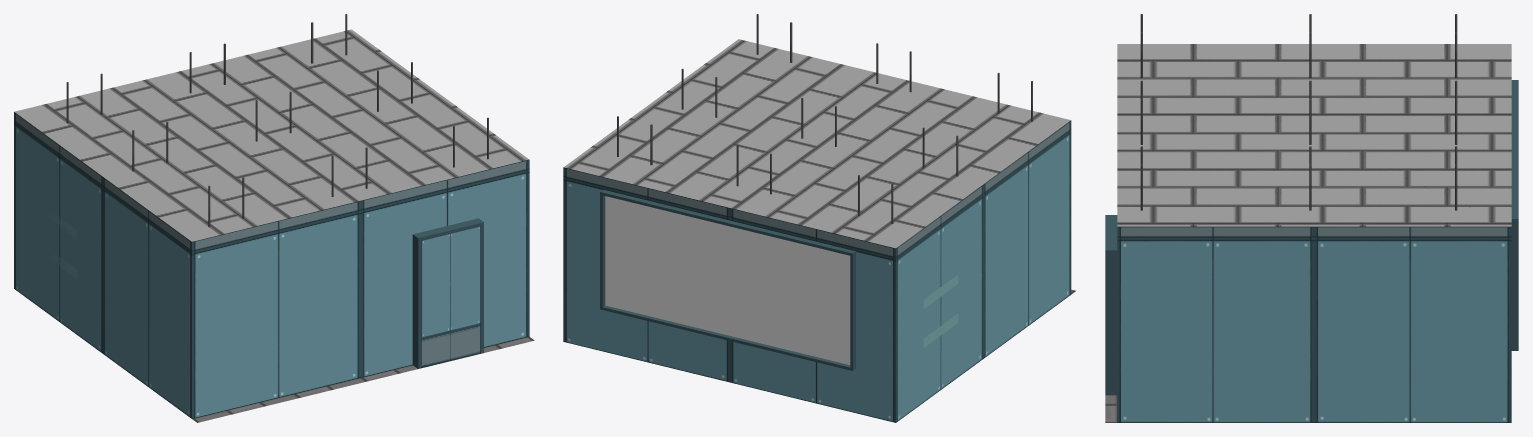
The model's file is Lab_PC_Room_.fbx.
3 views of the same model, side by side, from view 1: azimuth 30°, elevation 25°; view 2: azimuth 150°, elevation 25°; view 3: azimuth 270°, elevation 25° (orthographic). The views are drawn at different scales.
Parts seen in each view (by area): view 1: Wall, Ceiling, CeilingLightA1, Floor; view 2: Wall, Ceiling, Window, CeilingLightA1, WallShelve1; view 3: Wall, Ceiling, CeilingLightA1.
Part boxes in pixels (x1,y1,x2,y2): Wall: [14, 112, 529, 418]; Ceiling: [14, 29, 528, 241]; CeilingLightA1: [66, 14, 488, 227]; Floor: [192, 336, 534, 422]; Wall: [563, 120, 1071, 422]; Ceiling: [564, 39, 1070, 248]; Window: [605, 196, 850, 364]; CeilingLightA1: [617, 14, 1032, 223]; WallShelve1: [923, 274, 958, 347]; Wall: [1105, 80, 1518, 422]; Ceiling: [1117, 44, 1511, 226]; CeilingLightA1: [1140, 14, 1457, 210].
Bounding box in the file's own units: 770 × 474 × 737.
